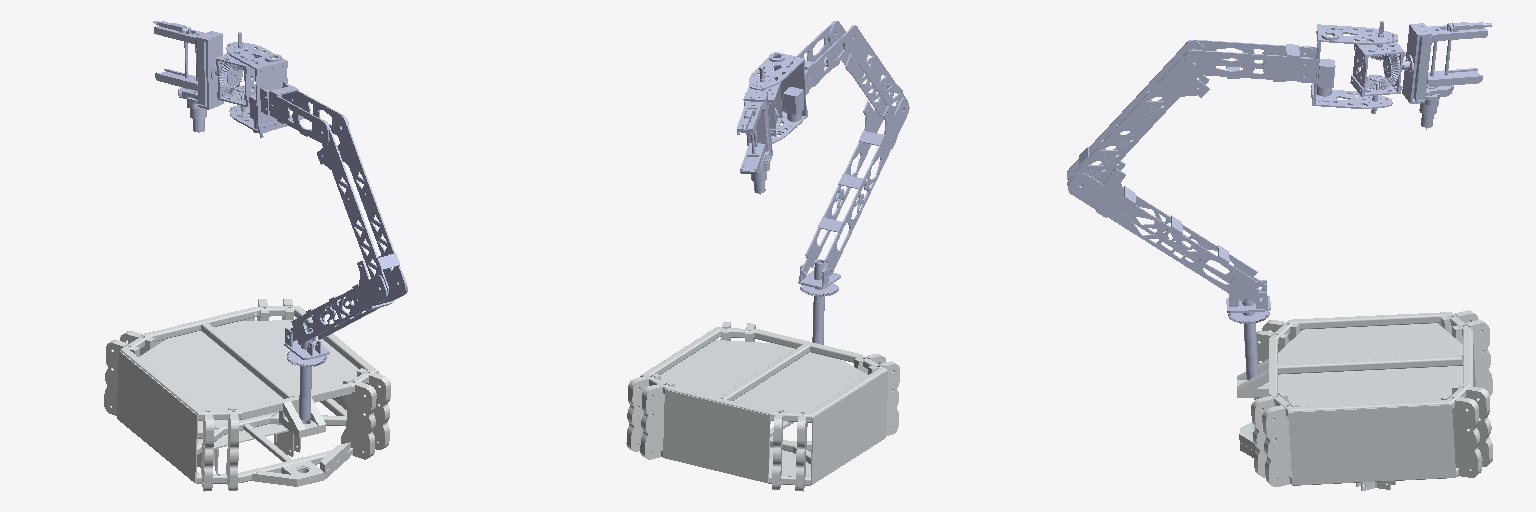
URDF robot description (New Arm(urdf)):
<?xml version="1.0" encoding="utf-8"?>
<!-- This URDF was automatically created by SolidWorks to URDF Exporter! Originally created by Stephen Brawner (brawner@gmail.com) 
     Commit Version: 1.6.0-4-g7f85cfe  Build Version: 1.6.7995.38578
     For more information, please see http://wiki.ros.org/sw_urdf_exporter -->
<robot
  name="New Arm(urdf)">
<link name="worldb"/>
    
    <joint name="world_joint" type="fixed">
      <parent link="worldb"/>
      <child link="base_link"/>
      <origin xyz="0 0 0" rpy="-1.518 0 0"/>
    </joint>
  <link
    name="base_link">
    <inertial>
      <origin
        xyz="0.15197 0.078447 0.21413"
        rpy="0 0 0" />
      <mass
        value="12.767" />
      <inertia
        ixx="0.076218"
        ixy="0.0052589"
        ixz="0.0011083"
        iyy="0.1036"
        iyz="-0.00048058"
        izz="0.076242" />
    </inertial>
    <visual>
      <origin
        xyz="0 0 0"
        rpy="0 0 0" />
      <geometry>
        <mesh
          filename="../meshes/base_link.STL" />
      </geometry>
      <material
        name="">
        <color
          rgba="0.89804 0.91765 0.92941 1" />
      </material>
    </visual>
    <collision>
      <origin
        xyz="0 0 0"
        rpy="0 0 0" />
      <geometry>
        <mesh
          filename="../meshes/base_link.STL" />
      </geometry>
    </collision>
  </link>
  <link
    name="tt">
    <inertial>
      <origin
        xyz="-1.9736E-05 0.1536 -0.00077976"
        rpy="0 0 0" />
      <mass
        value="0.12993" />
      <inertia
        ixx="0.00032026"
        ixy="6.6005E-08"
        ixz="-4.3915E-07"
        iyy="0.00010911"
        iyz="2.6078E-06"
        izz="0.00030292" />
    </inertial>
    <visual>
      <origin
        xyz="0 0 0"
        rpy="0 0 0" />
      <geometry>
        <mesh
          filename="../meshes/tt.STL" />
      </geometry>
      <material
        name="">
        <color
          rgba="0.79216 0.81961 0.93333 1" />
      </material>
    </visual>
    <collision>
      <origin
        xyz="0 0 0"
        rpy="0 0 0" />
      <geometry>
        <mesh
          filename="../meshes/tt.STL" />
      </geometry>
    </collision>
  </link>
  <joint
    name="tt"
    type="revolute">
    <origin
      xyz="0.151 0.010905 -0.0415"
      rpy="-3.1416 0 0" />
    <parent
      link="base_link" />
    <child
      link="tt" />
    <axis
      xyz="0 -1 0" />
    <limit
      lower="-3.14"
      upper="3.14"
      effort="0"
      velocity="0" />
  </joint>
  <link
    name="link1">
    <inertial>
      <origin
        xyz="-0.034 0.18564 0.22733"
        rpy="0 0 0" />
      <mass
        value="0.22944" />
      <inertia
        ixx="0.00518"
        ixy="-1.1796E-18"
        ixz="-1.7212E-18"
        iyy="0.0030763"
        iyz="-0.0024434"
        izz="0.0021215" />
    </inertial>
    <visual>
      <origin
        xyz="0 0 0"
        rpy="0 0 0" />
      <geometry>
        <mesh
          filename="../meshes/link1.STL" />
      </geometry>
      <material
        name="">
        <color
          rgba="0.79216 0.81961 0.93333 1" />
      </material>
    </visual>
    <collision>
      <origin
        xyz="0 0 0"
        rpy="0 0 0" />
      <geometry>
        <mesh
          filename="../meshes/link1.STL" />
      </geometry>
    </collision>
  </link>
  <joint
    name="link1"
    type="revolute">
    <origin
      xyz="0.033255 0.2121 -0.029851"
      rpy="0 0.025305 0" />
    <parent
      link="tt" />
    <child
      link="link1" />
    <axis
      xyz="-1 0 0" />
    <limit
      lower="-3.14"
      upper="3.14"
      effort="0"
      velocity="0" />
  </joint>
  <link
    name="link2">
    <inertial>
      <origin
        xyz="0.028 0.15109 -0.14585"
        rpy="0 0 0" />
      <mass
        value="0.20937" />
      <inertia
        ixx="0.0035916"
        ixy="-6.1436E-19"
        ixz="3.6931E-19"
        iyy="0.00179"
        iyz="0.0017084"
        izz="0.0018049" />
    </inertial>
    <visual>
      <origin
        xyz="0 0 0"
        rpy="0 0 0" />
      <geometry>
        <mesh
          filename="../meshes/link2.STL" />
      </geometry>
      <material
        name="">
        <color
          rgba="0.79216 0.81961 0.93333 1" />
      </material>
    </visual>
    <collision>
      <origin
        xyz="0 0 0"
        rpy="0 0 0" />
      <geometry>
        <mesh
          filename="../meshes/link2.STL" />
      </geometry>
    </collision>
  </link>
  <joint
    name="link2"
    type="revolute">
    <origin
      xyz="-0.062 0.30929 0.39286"
      rpy="0 0 0" />
    <parent
      link="link1" />
    <child
      link="link2" />
    <axis
      xyz="1 0 0" />
    <limit
      lower="-3.14"
      upper="3.14"
      effort="0"
      velocity="0" />
  </joint>
  <link
    name="link3">
    <inertial>
      <origin
        xyz="-0.022442 -0.045811 0.25032"
        rpy="0 0 0" />
      <mass
        value="0.43466" />
      <inertia
        ixx="0.0015194"
        ixy="7.8224E-07"
        ixz="1.077E-07"
        iyy="0.0014144"
        iyz="0.00014626"
        izz="0.00037064" />
    </inertial>
    <visual>
      <origin
        xyz="0 0 0"
        rpy="0 0 0" />
      <geometry>
        <mesh
          filename="../meshes/link3.STL" />
      </geometry>
      <material
        name="">
        <color
          rgba="0.79216 0.81961 0.93333 1" />
      </material>
    </visual>
    <collision>
      <origin
        xyz="0 0 0"
        rpy="0 0 0" />
      <geometry>
        <mesh
          filename="../meshes/link3.STL" />
      </geometry>
    </collision>
  </link>
  <joint
    name="link3"
    type="revolute">
    <origin
      xyz="0 0.29017 -0.27532"
      rpy="3.1416 0 3.1416" />
    <parent
      link="link2" />
    <child
      link="link3" />
    <axis
      xyz="-1 0 0" />
    <limit
      lower="-3.14"
      upper="3.14"
      effort="0"
      velocity="0" />
  </joint>
  <link
    name="ypr pitch">
    <inertial>
      <origin
        xyz="0.025873 -5.1941E-05 -1.737E-05"
        rpy="0 0 0" />
      <mass
        value="0.19925" />
      <inertia
        ixx="0.00015622"
        ixy="-4.1005E-11"
        ixz="-1.8839E-11"
        iyy="0.00012636"
        iyz="-5.3401E-06"
        izz="0.00014056" />
    </inertial>
    <visual>
      <origin
        xyz="0 0 0"
        rpy="0 0 0" />
      <geometry>
        <mesh
          filename="../meshes/ypr pitch.STL" />
      </geometry>
      <material
        name="">
        <color
          rgba="0.79216 0.81961 0.93333 1" />
      </material>
    </visual>
    <collision>
      <origin
        xyz="0 0 0"
        rpy="0 0 0" />
      <geometry>
        <mesh
          filename="../meshes/ypr pitch.STL" />
      </geometry>
    </collision>
  </link>
  <joint
    name="ypr pitch"
    type="revolute">
    <origin
      xyz="-0.028 -0.077678 0.40923"
      rpy="-1.5708 -0.13663 1.5708" />
    <parent
      link="link3" />
    <child
      link="ypr pitch" />
    <axis
      xyz="-1 0 0" />
    <limit
      lower="-3.14"
      upper="3.14"
      effort="0"
      velocity="0" />
  </joint>
  <link
    name="ypr roll">
    <inertial>
      <origin
        xyz="-0.0029709 -0.010436 -0.089727"
        rpy="0 0 0" />
      <mass
        value="0.59855" />
      <inertia
        ixx="0.001022"
        ixy="-1.4319E-05"
        ixz="2.3671E-06"
        iyy="0.00058057"
        iyz="5.8323E-05"
        izz="0.00070733" />
    </inertial>
    <visual>
      <origin
        xyz="0 0 0"
        rpy="0 0 0" />
      <geometry>
        <mesh
          filename="../meshes/ypr roll.STL" />
      </geometry>
      <material
        name="">
        <color
          rgba="0.79216 0.81961 0.93333 1" />
      </material>
    </visual>
    <collision>
      <origin
        xyz="0 0 0"
        rpy="0 0 0" />
      <geometry>
        <mesh
          filename="../meshes/ypr roll.STL" />
      </geometry>
    </collision>
  </link>
  <joint
    name="ypr roll"
    type="revolute">
    <origin
      xyz="0.025873 -0.021203 -0.0070861"
      rpy="0.010968 -1.2482 -1.5824" />
    <parent
      link="ypr pitch" />
    <child
      link="ypr roll" />
    <axis
      xyz="0 0 -1" />
    <limit
      lower="-3.14"
      upper="3.14"
      effort="0"
      velocity="0" />
  </joint>
  <link
    name="claw">
    <inertial>
      <origin
        xyz="-0.014064 0.12149 0.038797"
        rpy="0 0 0" />
      <mass
        value="0.086144" />
      <inertia
        ixx="0.00011348"
        ixy="7.6268E-07"
        ixz="3.0969E-05"
        iyy="0.00012088"
        iyz="-2.104E-06"
        izz="3.927E-05" />
    </inertial>
    <visual>
      <origin
        xyz="0 0 0"
        rpy="0 0 0" />
      <geometry>
        <mesh
          filename="../meshes/claw.STL" />
      </geometry>
      <material
        name="">
        <color
          rgba="0.79216 0.81961 0.93333 1" />
      </material>
    </visual>
    <collision>
      <origin
        xyz="0 0 0"
        rpy="0 0 0" />
      <geometry>
        <mesh
          filename="../meshes/claw.STL" />
      </geometry>
    </collision>
  </link>
  <joint
    name="claw"
    type="fixed">
    <origin
      xyz="-0.00027829 0.08223 -0.11311"
      rpy="3.1416 -0.34776 -0.032181" />
    <parent
      link="ypr roll" />
    <child
      link="claw" />
    <axis
      xyz="0 -1 0" />
    <limit
      lower="-3.14"
      upper="3.14"
      effort="0"
      velocity="0" />
  </joint>
</robot>

--- Facts derived from the render (not from the file) ---
Views: 3 orthographic renders of the robot side by side, from view 1: azimuth 30°, elevation 25°; view 2: azimuth 150°, elevation 25°; view 3: azimuth 270°, elevation 25°.
Robot: New Arm(urdf) — 9 links, 8 joints (6 revolute, 2 fixed); root link worldb; default pose: every joint at zero.
Visible links, largest first — view 1: base_link, link3, link2, ypr roll, link1, tt, ypr pitch, claw; view 2: base_link, link1, link3, link2, ypr roll, tt, ypr pitch, claw; view 3: base_link, link3, link1, link2, ypr roll, ypr pitch, tt, claw.
Boxes of the visible links, x1=… form: base_link: x1=104, y1=299, x2=390, y2=491; link3: x1=226, y1=42, x2=348, y2=144; link2: x1=317, y1=116, x2=406, y2=294; ypr roll: x1=153, y1=21, x2=243, y2=132; link1: x1=289, y1=255, x2=407, y2=344; tt: x1=284, y1=321, x2=329, y2=419; ypr pitch: x1=216, y1=32, x2=260, y2=111; claw: x1=155, y1=45, x2=197, y2=91; base_link: x1=626, y1=322, x2=899, y2=491; link1: x1=801, y1=98, x2=909, y2=277; link3: x1=749, y1=21, x2=858, y2=143; link2: x1=828, y1=21, x2=907, y2=117; ypr roll: x1=737, y1=92, x2=778, y2=194; tt: x1=798, y1=259, x2=840, y2=344; ypr pitch: x1=746, y1=67, x2=782, y2=136; claw: x1=740, y1=106, x2=765, y2=173; base_link: x1=1237, y1=310, x2=1492, y2=490; link3: x1=1184, y1=24, x2=1397, y2=108; link1: x1=1067, y1=161, x2=1267, y2=302; link2: x1=1067, y1=40, x2=1209, y2=186; ypr roll: x1=1383, y1=22, x2=1491, y2=129; ypr pitch: x1=1350, y1=21, x2=1405, y2=113; tt: x1=1226, y1=280, x2=1270, y2=379; claw: x1=1427, y1=41, x2=1482, y2=86.
Bounding box of the posed robot: 0.5075 × 0.9673 × 1.11 m (x, y, z).
8 mesh visuals loaded from 8 distinct referenced files (8 binary STL).
